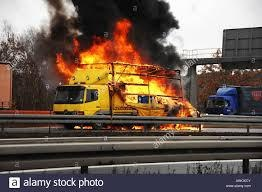fire: (51, 18, 195, 132)
